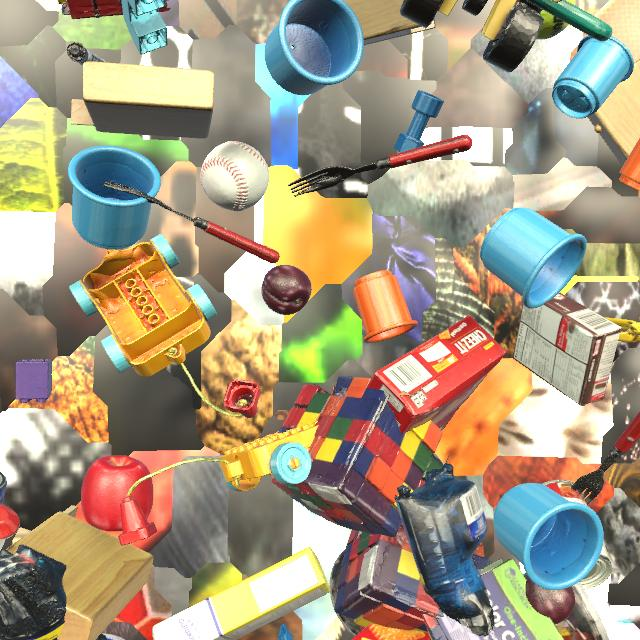ycb_002_master_chef_can: (101, 633, 126, 640)
ycb_003_cracker_box: (367, 316, 506, 434), (351, 624, 431, 640)
ycb_004_sugar_box: (152, 547, 330, 640)
ycb_005_tomato_soup_can: (542, 479, 612, 590)
ycb_007_tuna_fish_can: (0, 471, 7, 505)
ycb_008_pudding_box: (513, 292, 622, 406)
ycb_013_apple: (81, 455, 154, 532)
ycb_018_plum: (262, 265, 312, 315), (525, 576, 575, 625)
